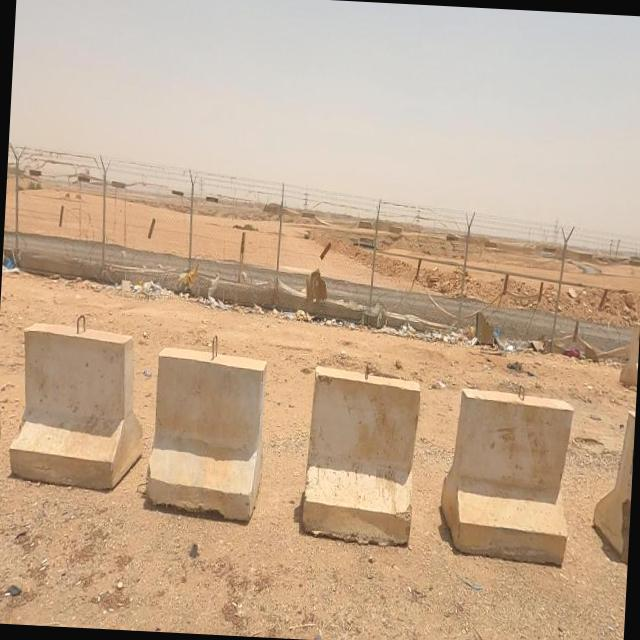debris: (263, 223, 355, 364), (85, 240, 196, 332), (180, 242, 270, 338), (457, 293, 555, 381), (374, 294, 466, 368), (224, 271, 311, 348), (150, 238, 223, 326), (423, 308, 498, 377), (354, 288, 417, 358), (312, 294, 371, 346), (541, 326, 597, 378), (516, 316, 552, 372), (1, 234, 33, 296), (132, 348, 163, 402)
